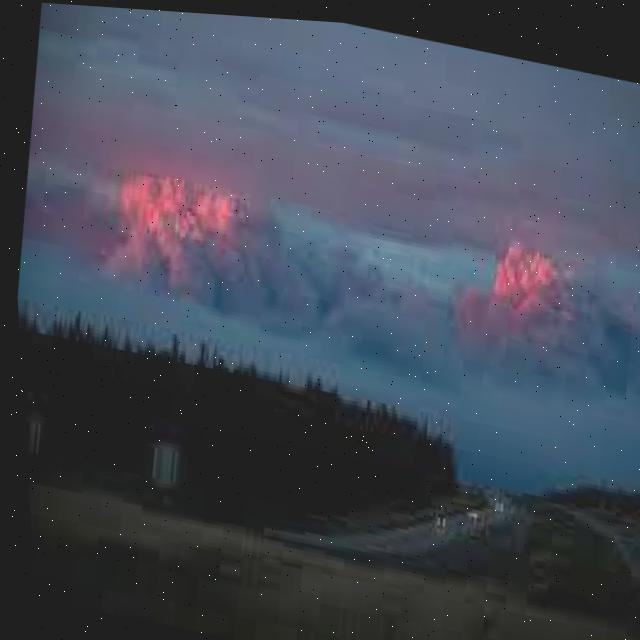smoke: (14, 2, 640, 482)
